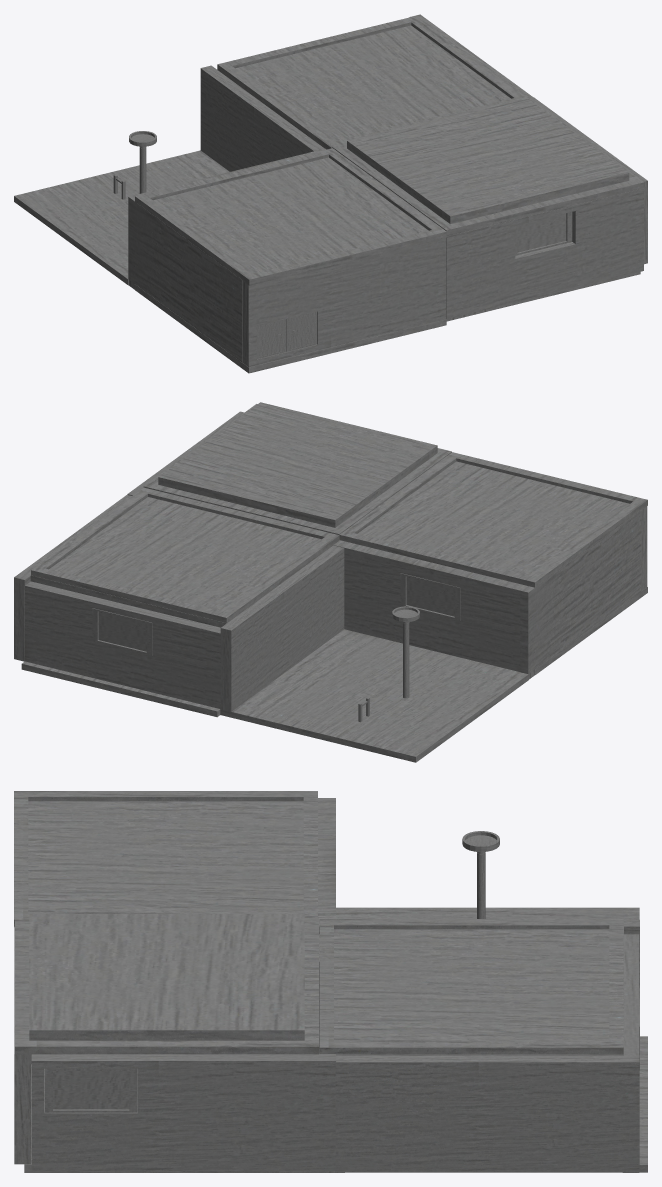
The model's file is Sample_Blocks.dae.
3 renders of one model, top to bottom at view 1: azimuth 30°, elevation 25°; view 2: azimuth 150°, elevation 25°; view 3: azimuth 270°, elevation 25°, orthographic. The views are drawn at different scales.
Parts seen in each view (by area): view 1: pCube45, pCube44, pCube46, pCube57, pCube34, pCube31, pCube51, pCube50, pCube33, pCube58, pCube52, pCube53 (+3 smaller); view 2: pCube46, pCube45, pCube44, pCube51, pCube49, pCube31, pCube50, pCube32, pCube55, pCube56, pCube47, pCube48 (+5 smaller); view 3: pCube44, pCube46, pCube45, pCube48, pCube42, pCube54, pCube51, pCube31, pCube57, pCube49, pCube47, pCylinder2 (+2 smaller).
Part boxes in pixels (x1,y1,x2,y2): pCube45: (135,148,446,285); pCube44: (332,97,644,236); pCube46: (217,16,525,149); pCube57: (446,188,643,318); pCube34: (242,238,445,367); pCube31: (128,148,326,362); pCube51: (14,150,229,285); pCube50: (200,65,324,171); pCube33: (134,284,446,373); pCube58: (515,212,572,255); pCube52: (286,311,316,351); pCube53: (257,319,286,358); pCube46: (31,487,339,623); pCube45: (339,452,647,587); pCube44: (143,402,451,535); pCube51: (220,629,528,762); pCube49: (25,581,220,708); pCube31: (333,510,641,674); pCube50: (220,545,344,711); pCube32: (344,553,534,679); pCube55: (92,608,152,655); pCube56: (400,573,460,620); pCube47: (21,661,220,717); pCube48: (14,495,131,661); pCube44: (15,914,318,1054); pCube46: (319,919,623,1054); pCube45: (14,791,317,926); pCube48: (335,1055,639,1172); pCube42: (31,1053,335,1170); pCube54: (45,1068,137,1112); pCube51: (336,907,639,919); pCube31: (318,798,335,934); pCube57: (14,926,30,1164); pCube49: (623,934,639,1172); pCube47: (345,1036,647,1172); pCylinder2: (462,831,499,918).
Size of the model in its own units: 1638 by 395 by 1662.
